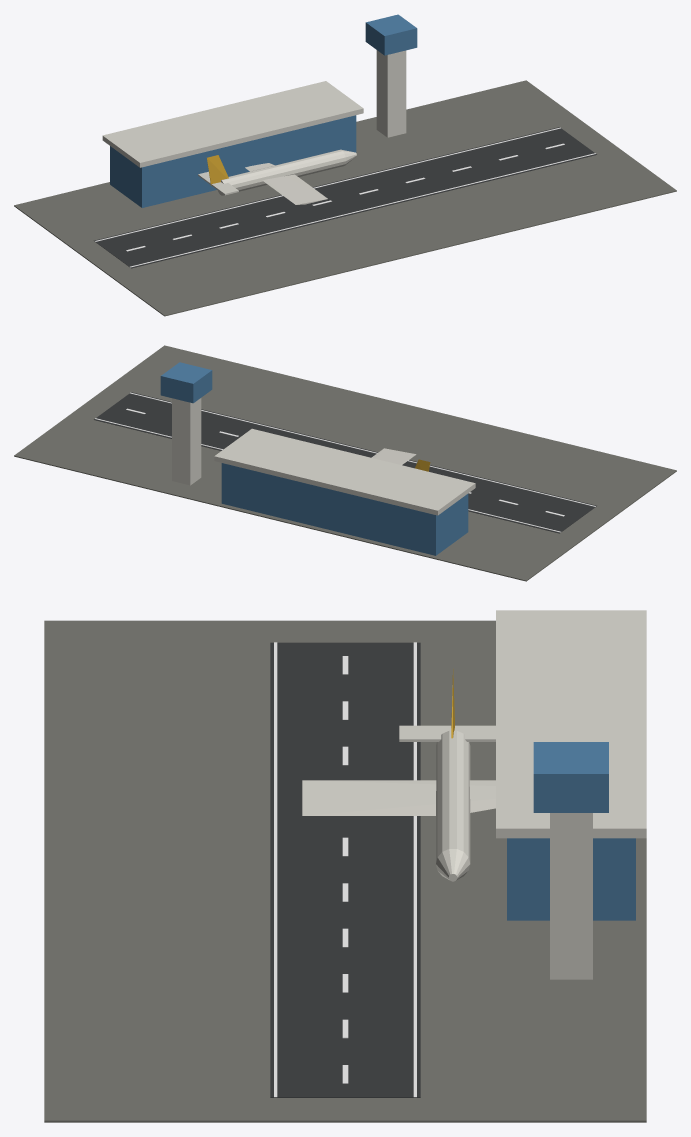
File: airport.glb
The picture shows the model from 3 angles, top to bottom: view 1: azimuth 30°, elevation 25°; view 2: azimuth 150°, elevation 25°; view 3: azimuth 270°, elevation 25°; orthographic projection. The views are drawn at different scales.
Visible parts, largest first — view 1: airport; view 2: airport; view 3: airport.
Boxes of the visible parts, box(x1,y1,x2,y2) form: airport: box(14, 14, 676, 316); airport: box(14, 345, 676, 581); airport: box(44, 610, 646, 1122).
Size of the model in its own units: 110 by 22 by 56.
